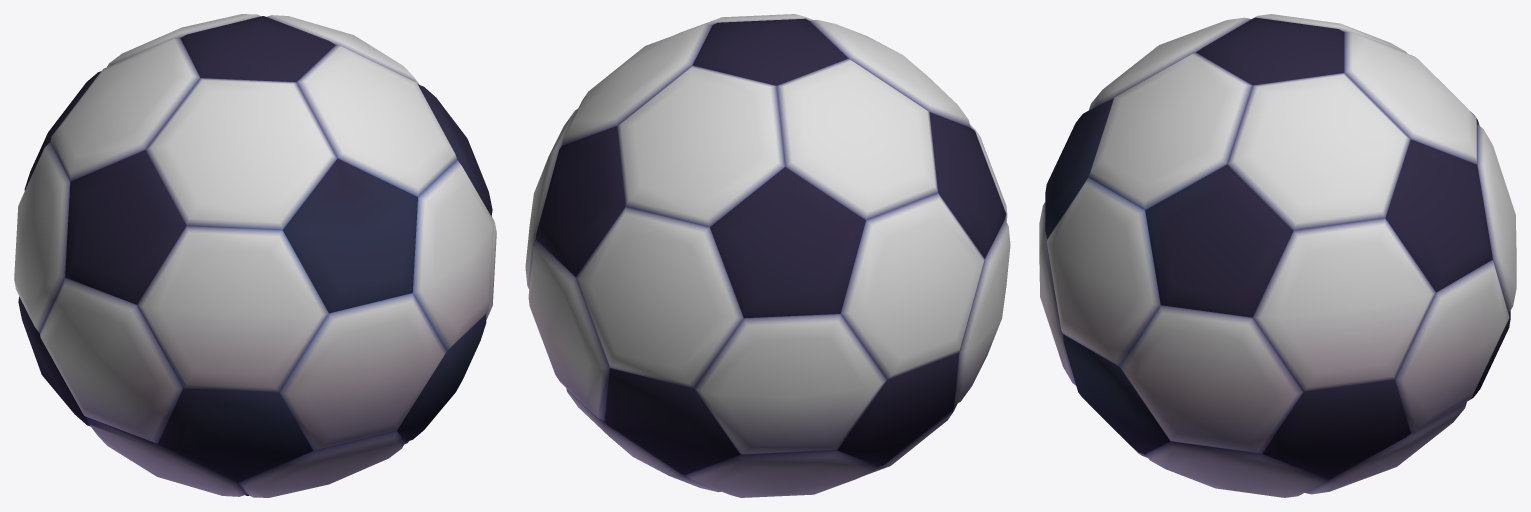
The picture shows the model from 3 angles, left to right: view 1: azimuth 30°, elevation 25°; view 2: azimuth 150°, elevation 25°; view 3: azimuth 270°, elevation 25°; orthographic projection.
Parts seen in each view (by area): view 1: Joint_0_Object_1, Joint_0_Object_0; view 2: Joint_0_Object_1, Joint_0_Object_0; view 3: Joint_0_Object_1, Joint_0_Object_0.
Part boxes in pixels (left/top/right/bottom): Joint_0_Object_1: left=14, top=14, right=496, bottom=497; Joint_0_Object_0: left=18, top=16, right=492, bottom=495; Joint_0_Object_1: left=525, top=14, right=1010, bottom=497; Joint_0_Object_0: left=536, top=18, right=1006, bottom=474; Joint_0_Object_1: left=1039, top=14, right=1516, bottom=497; Joint_0_Object_0: left=1045, top=17, right=1510, bottom=479.
Size of the model in its own units: 499 by 509 by 500.
